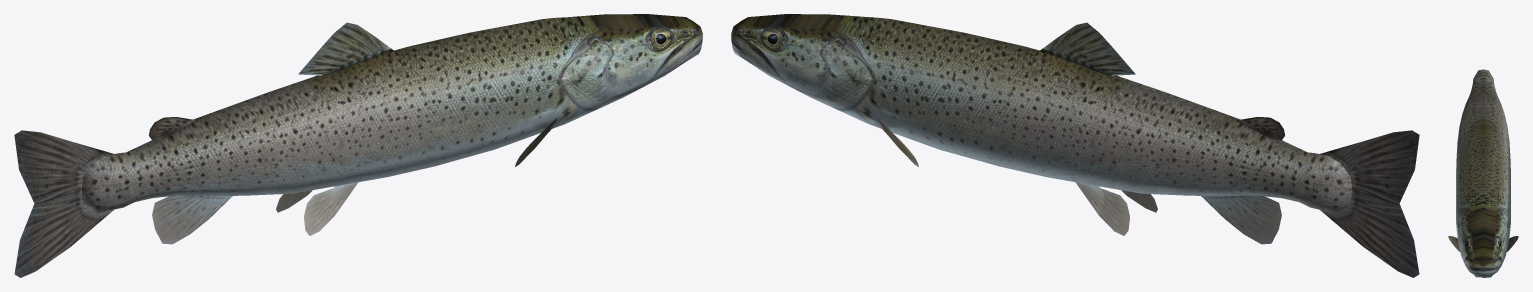
The model's file is Huchen.glb.
The picture shows the model from 3 angles, left to right: view 1: azimuth 30°, elevation 25°; view 2: azimuth 150°, elevation 25°; view 3: azimuth 270°, elevation 25°; orthographic projection. The views are drawn at different scales.
Visible parts, largest first — view 1: Huchen; view 2: Huchen; view 3: Huchen.
Boxes of the visible parts, <box> form: Huchen: <box>14,14,702,277</box>; Huchen: <box>731,14,1419,277</box>; Huchen: <box>1448,69,1518,277</box>.
Bounding box in the file's own units: 2 × 0.5249 × 0.277.
Materials: 1 (1 with a texture image).
